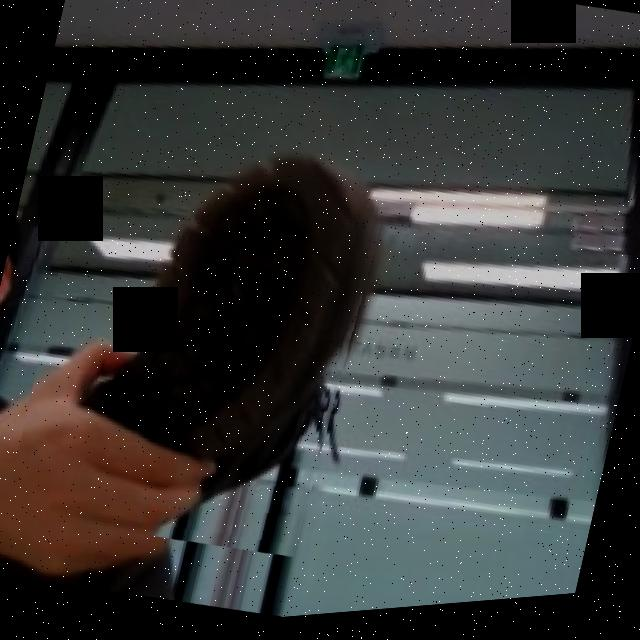shoe: (3, 68, 406, 584)
